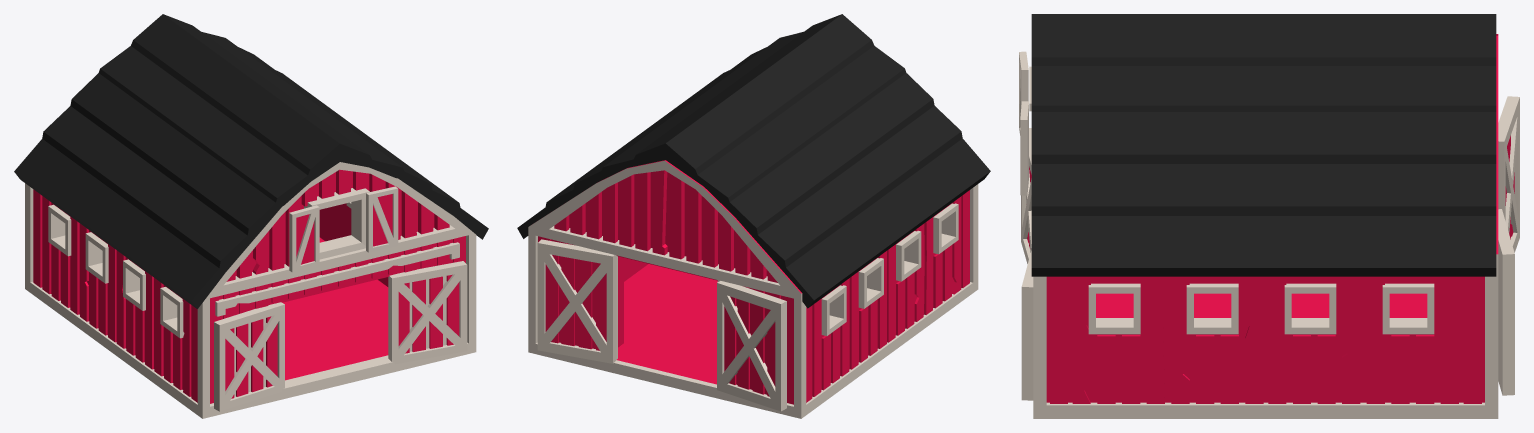
File: Barn_DoorsBack.fbx
3 renders of one model, left to right at view 1: azimuth 30°, elevation 25°; view 2: azimuth 150°, elevation 25°; view 3: azimuth 270°, elevation 25°, orthographic. The views are drawn at different scales.
Visible parts, largest first — view 1: Barn.001; view 2: Barn.001; view 3: Barn.001.
Boxes of the visible parts, bbox=[...] form: Barn.001: bbox=[14, 14, 488, 418]; Barn.001: bbox=[517, 14, 990, 418]; Barn.001: bbox=[1019, 14, 1519, 418].
Bounding box in the file's own units: 773 × 601 × 859.
